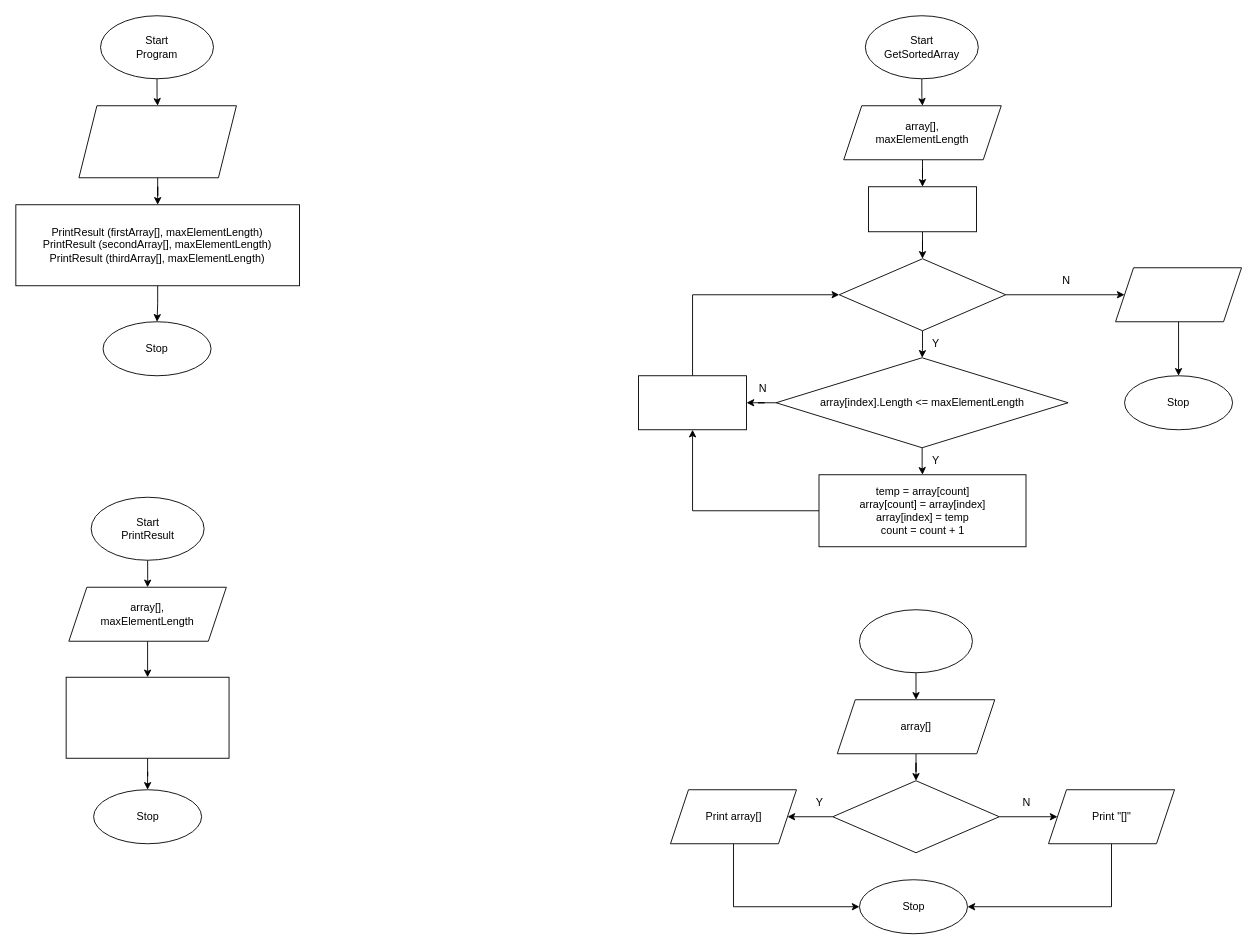
The diagram is 1257 pixels wide and 950 high, and some of its shapes have lost their labels. Each missing label, with the centre of its shape:
array.Length > 0: (915,816)
firstArray[], secondArray[], thirdArray[], maxElementLength: (157,141)
index < array.Length: (922,294)
index = 0 count = 0: (922,209)
index = index + 1: (692,402)
PrintArray length = GetSortedArray Array.Resize PrintArray: (147,717)
return count: (1178,294)
Start PrintArray: (915,641)
